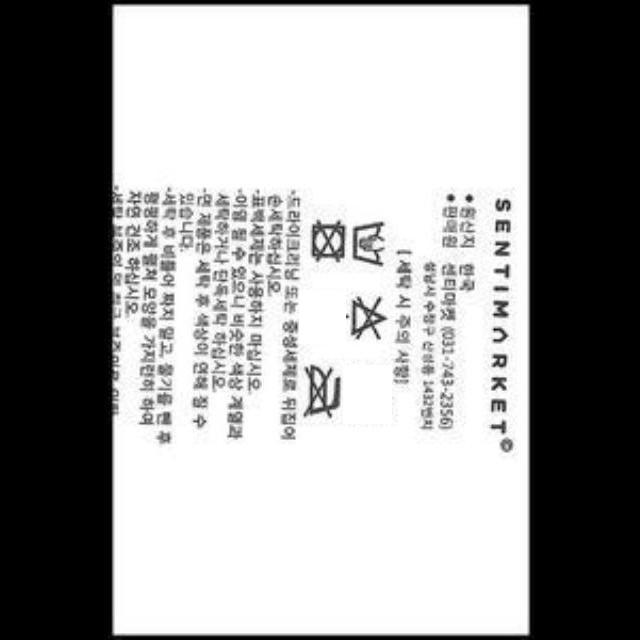DN_bleach: (348, 293, 388, 341)
DN_iron: (300, 362, 340, 422)
DN_tumble_dry: (307, 218, 347, 268)
hand_wash: (349, 219, 386, 267)
